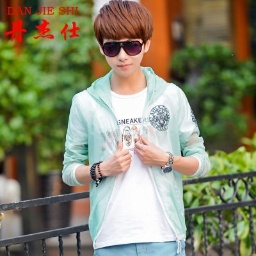face: (95, 1, 154, 78)
